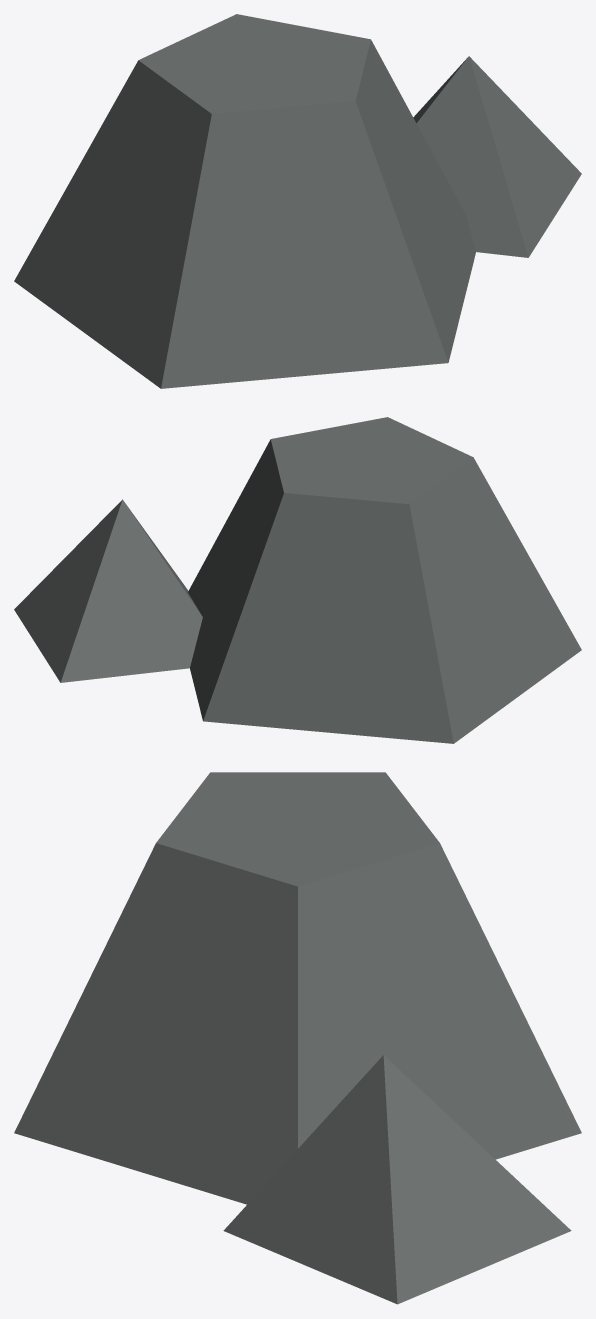
File: Rock.fbx
3 renders of one model, top to bottom at view 1: azimuth 30°, elevation 25°; view 2: azimuth 150°, elevation 25°; view 3: azimuth 270°, elevation 25°, orthographic. The views are drawn at different scales.
Parts seen in each view (by area): view 1: Rock; view 2: Rock; view 3: Rock.
Part boxes in pixels (x1,y1,x2,y2): Rock: (14, 14, 581, 388); Rock: (14, 417, 581, 743); Rock: (14, 772, 581, 1304).
Bounding box in the file's own units: 59.42 × 24 × 45.65.
